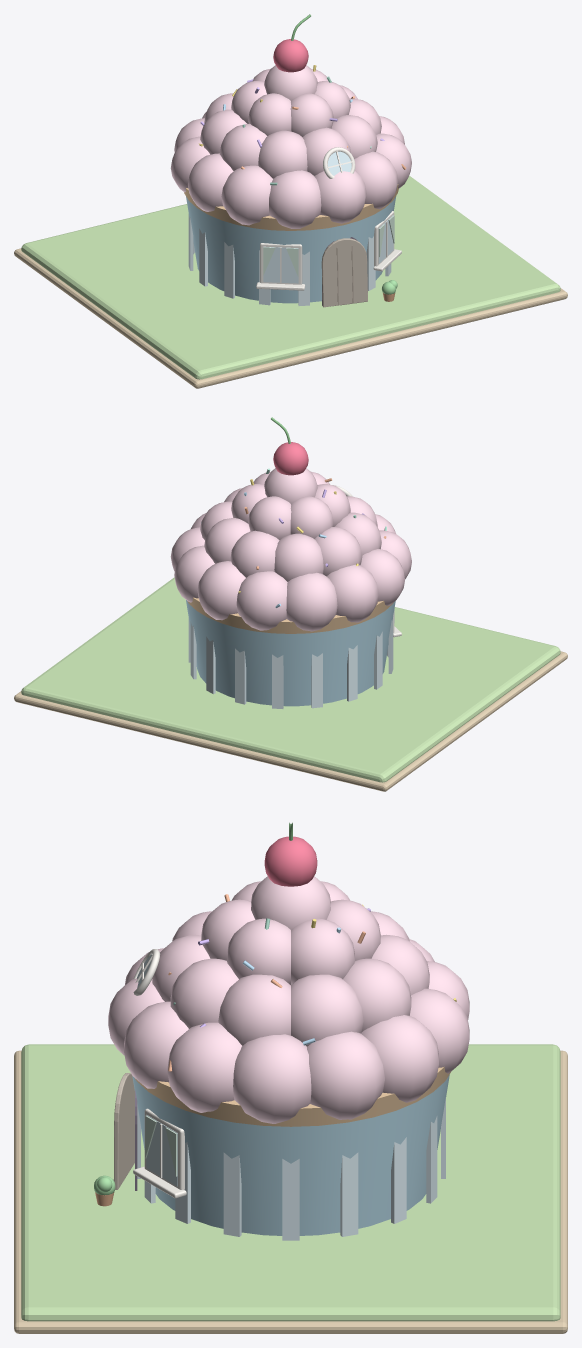
The model's file is building_sweets_L05.glb.
3 views of the same model, one above another, from view 1: azimuth 30°, elevation 25°; view 2: azimuth 150°, elevation 25°; view 3: azimuth 270°, elevation 25° (orthographic). The views are drawn at different scales.
Parts seen in each view (by area): view 1: sweets_L5, Body; view 2: sweets_L5, Body; view 3: Body, sweets_L5.
Part boxes in pixels (x1,y1,x2,y2): sweets_L5: [14, 175, 567, 388]; Body: [170, 14, 411, 307]; sweets_L5: [14, 577, 567, 791]; Body: [170, 417, 411, 708]; Body: [108, 822, 469, 1240]; sweets_L5: [14, 1044, 567, 1333].
Bounding box in the file's own units: 26.61 × 17.64 × 22.6.
